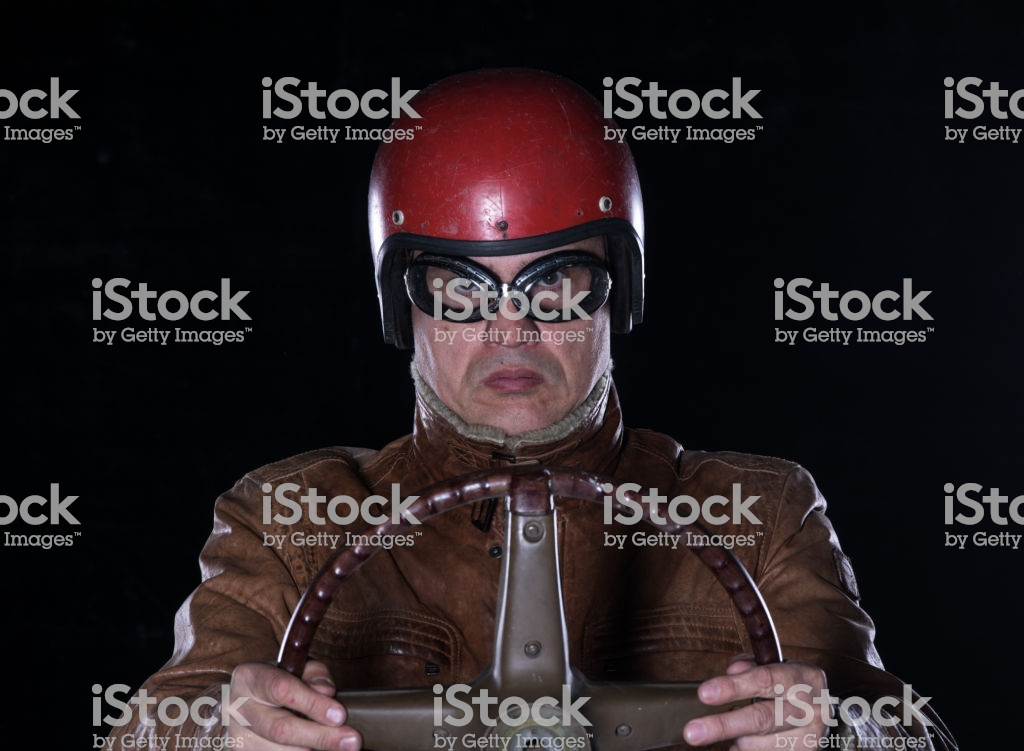helmet: (353, 86, 653, 307)
